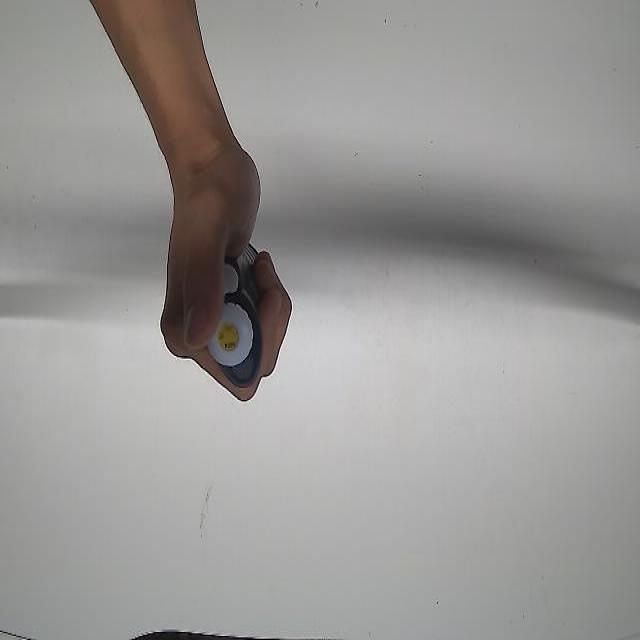Single Channel Pipettor: (207, 229, 269, 393)
